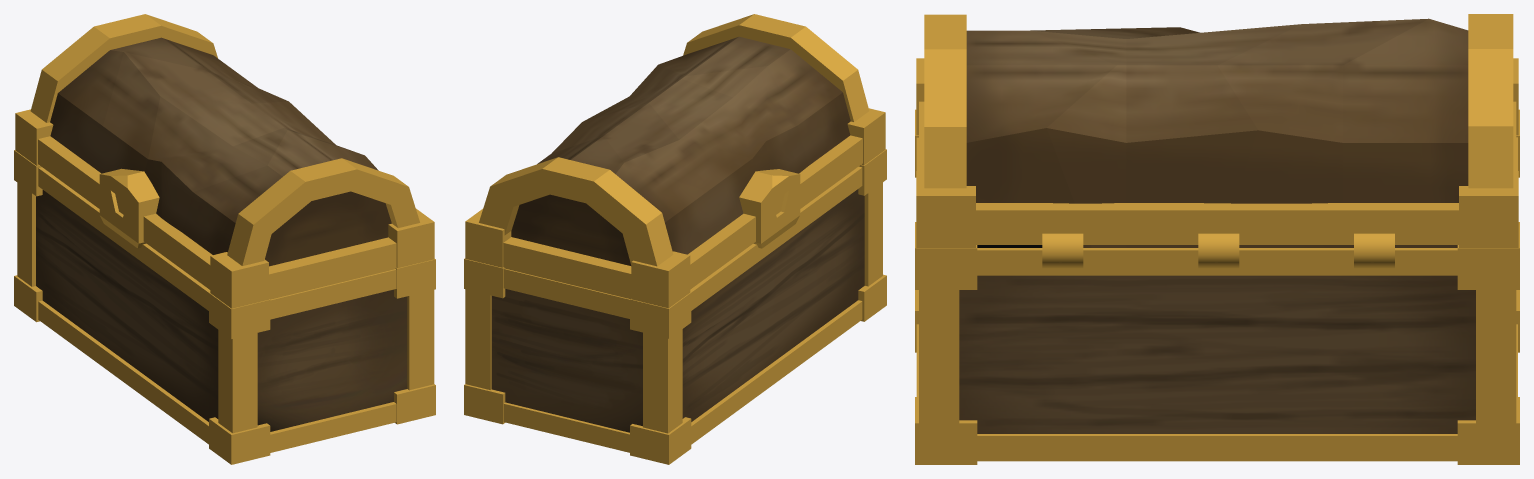
Rendered from Chestfbx.fbx.
3 renders of one model, left to right at view 1: azimuth 30°, elevation 25°; view 2: azimuth 150°, elevation 25°; view 3: azimuth 270°, elevation 25°, orthographic. The views are drawn at different scales.
Parts seen in each view (by area): view 1: Cube.030, Cube.016; view 2: Cube.030, Cube.016; view 3: Cube.030, Cube.016.
Boxes of the visible parts, left/top/right/bottom form: Cube.030: left=15, top=14, right=434, bottom=308; Cube.016: left=14, top=150, right=435, bottom=464; Cube.030: left=465, top=14, right=885, bottom=308; Cube.016: left=464, top=149, right=886, bottom=464; Cube.030: left=916, top=14, right=1518, bottom=268; Cube.016: left=915, top=109, right=1519, bottom=464.
Bounding box in the file's own units: 223 × 258 × 388.
